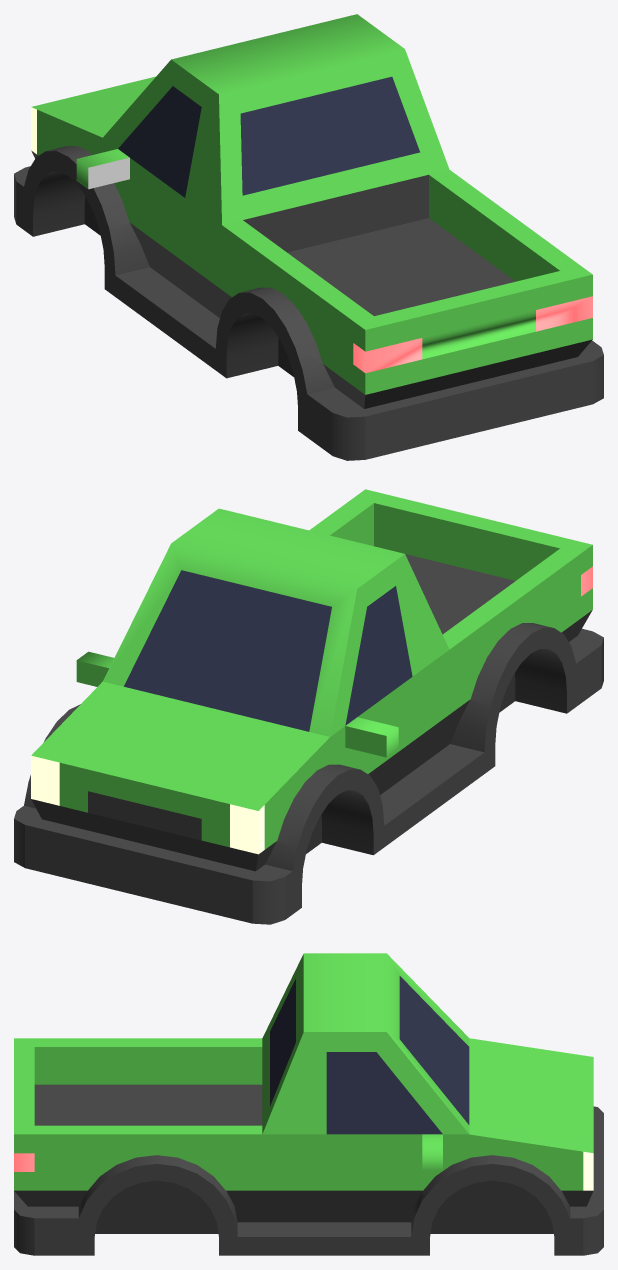
Rendered from SM_Truck_Body.fbx.
3 renders of one model, top to bottom at view 1: azimuth 30°, elevation 25°; view 2: azimuth 150°, elevation 25°; view 3: azimuth 270°, elevation 25°, orthographic. The views are drawn at different scales.
Parts seen in each view (by area): view 1: SM_Truck_Body; view 2: SM_Truck_Body; view 3: SM_Truck_Body.
Boxes of the visible parts, x1=… form: SM_Truck_Body: x1=14, y1=14, x2=603, y2=460; SM_Truck_Body: x1=14, y1=489, x2=603, y2=924; SM_Truck_Body: x1=14, y1=953, x2=603, y2=1255.
Size of the model in its own units: 1.5 by 1.1 by 2.85.
